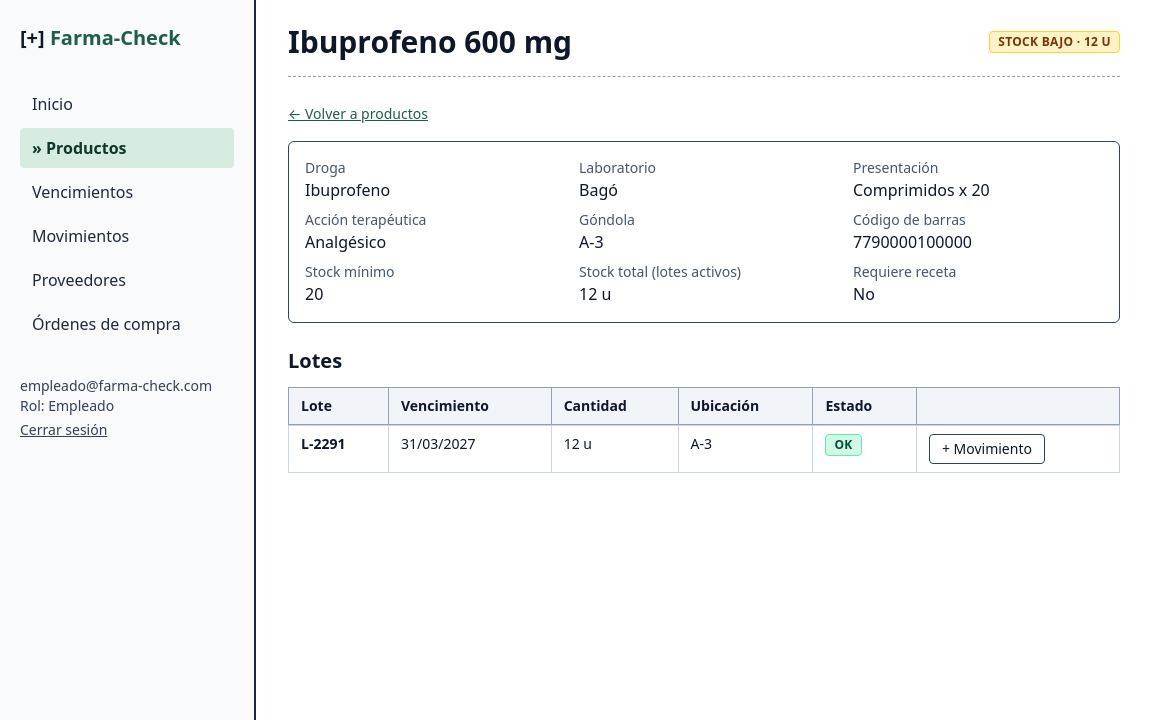
Test: Registrar movimiento › registra una salida, confirma y refresca el stock
The width and height of the screenshot is (1152, 720).
Click the button with aria-label "Registrar movimiento en el lote L-2291": (987, 449) [929, 434, 1045, 464]
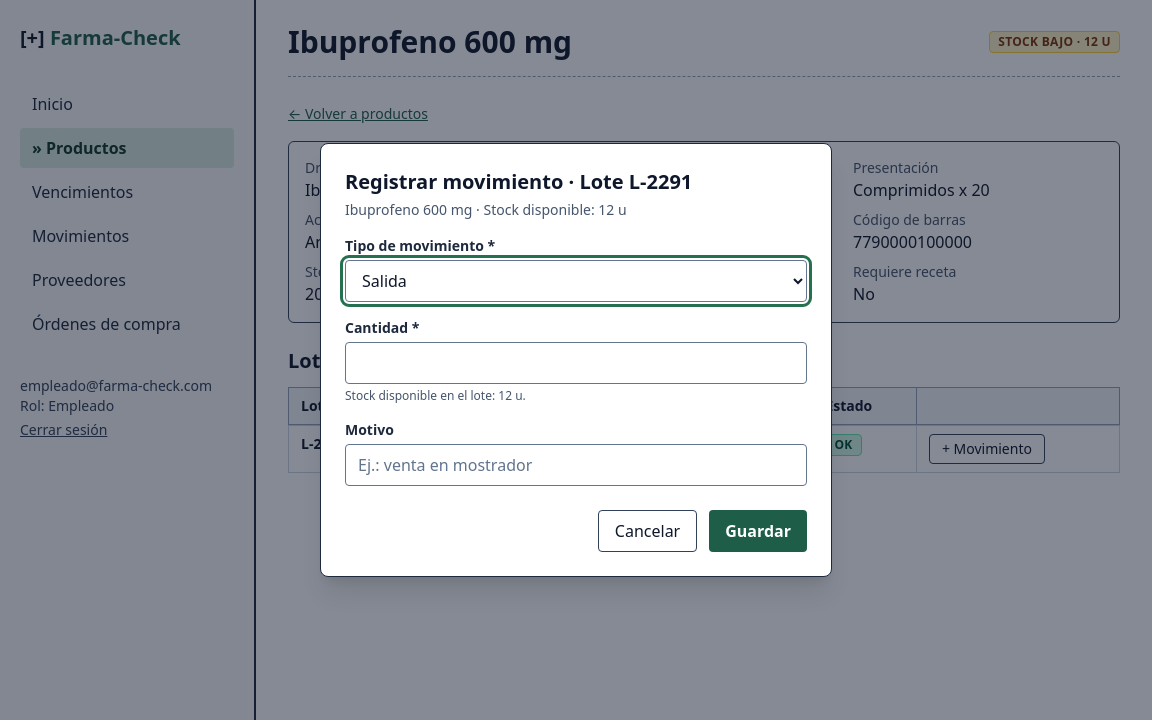
In the number field labelled "Cantidad *": (576, 363) [345, 342, 807, 384], type "5"
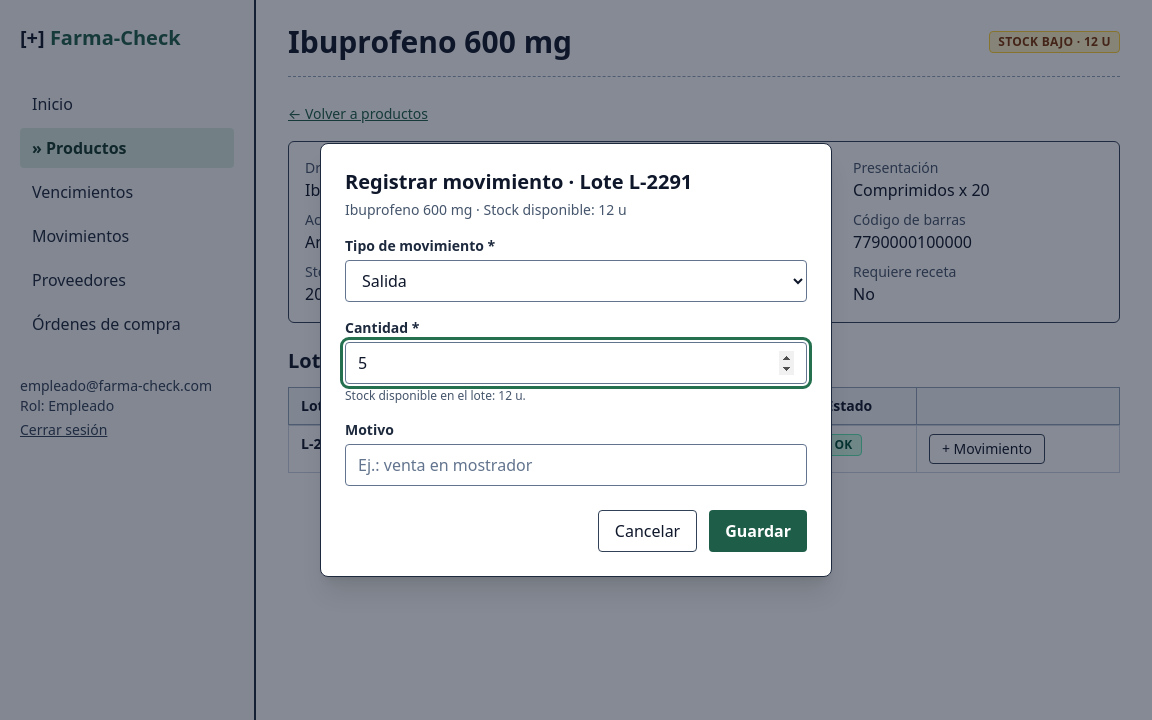
In the field labelled "Motivo": (576, 465) [345, 444, 807, 486], type "Venta mostrador"
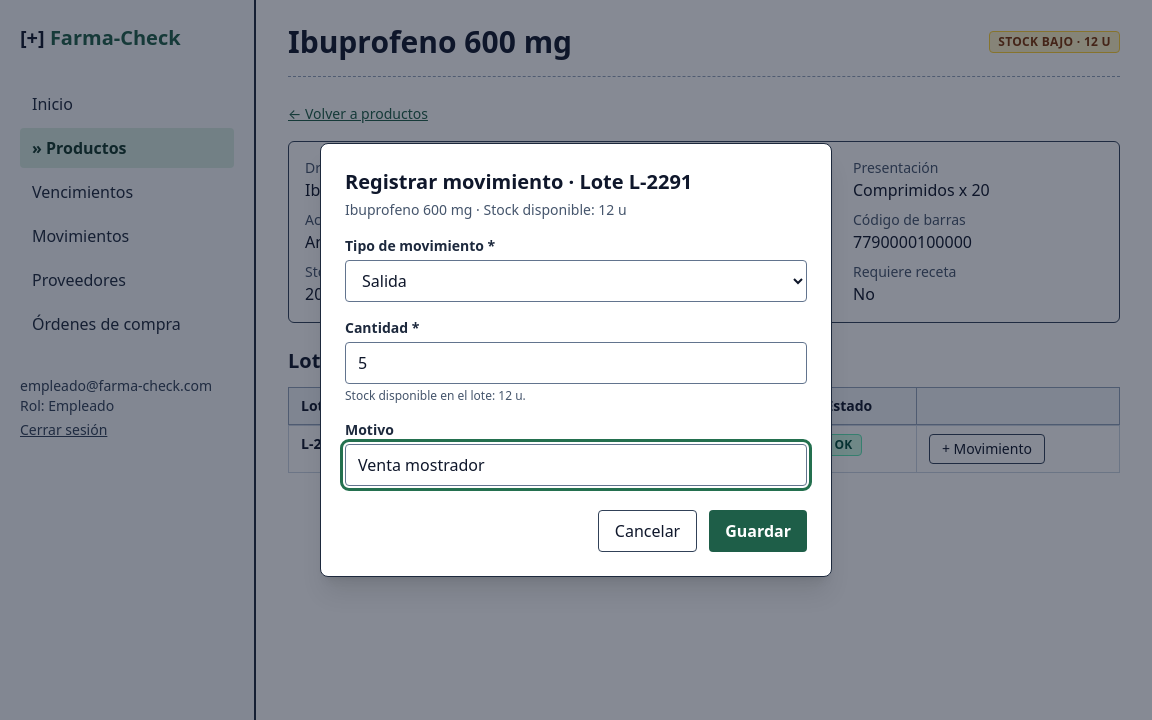
Click the button "Guardar": (758, 531) [709, 510, 807, 552]
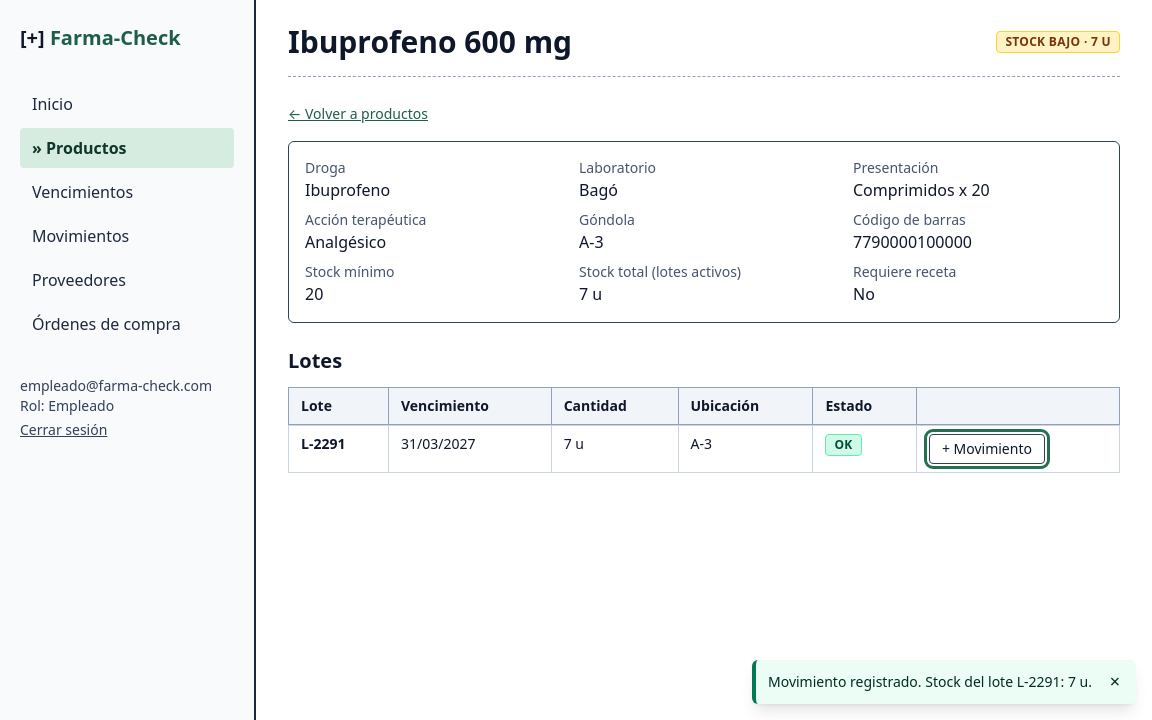
expect the text "Movimiento registrado. Stock del lote L-2291: 7 u." is shown: met, box [768, 672, 1094, 692]
expect the dialog is gone: met
expect the text "Stock bajo · 7 u" is shown: met, box [996, 31, 1120, 53]
